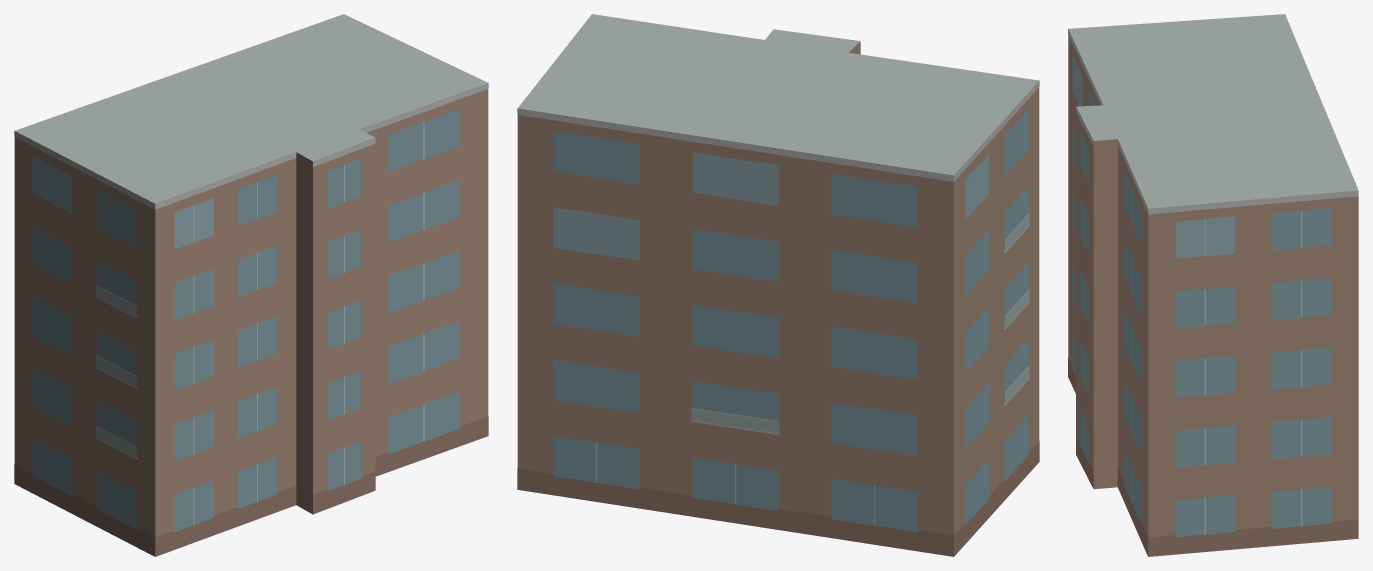
The model's file is survey-upis-32936766.glb.
The picture shows the model from 3 angles, left to right: view 1: azimuth 30°, elevation 25°; view 2: azimuth 150°, elevation 25°; view 3: azimuth 270°, elevation 25°; orthographic projection. The views are drawn at different scales.
Parts seen in each view (by area): view 1: survey-upis-32936766.tmp; view 2: survey-upis-32936766.tmp; view 3: survey-upis-32936766.tmp.
Boxes of the visible parts, x1,y1,x2,y2 form: survey-upis-32936766.tmp: (14, 14, 488, 556); survey-upis-32936766.tmp: (517, 14, 1039, 556); survey-upis-32936766.tmp: (1068, 14, 1358, 556).
Size of the model in its own units: 17.46 by 14.55 by 11.01.
